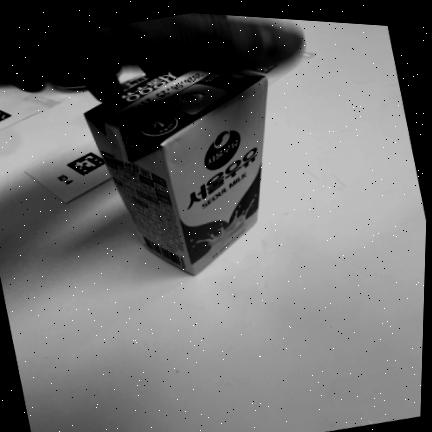milk_green: (85, 70, 268, 275)
